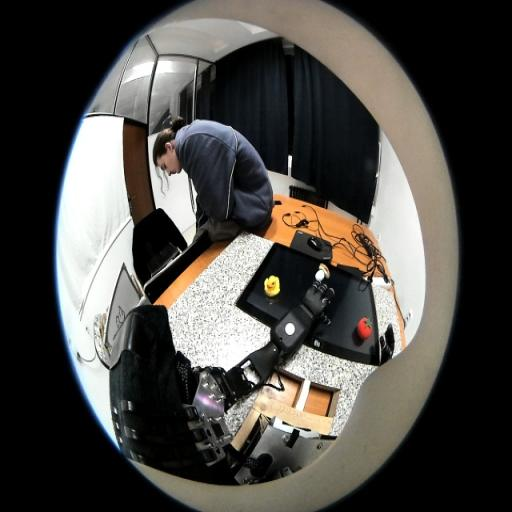Duck: (264, 275, 280, 297)
LeftHand: (305, 288, 325, 312)
Mushroom: (315, 264, 330, 282)
RightHand: (380, 346, 394, 360)
Tomato: (357, 318, 372, 340)
